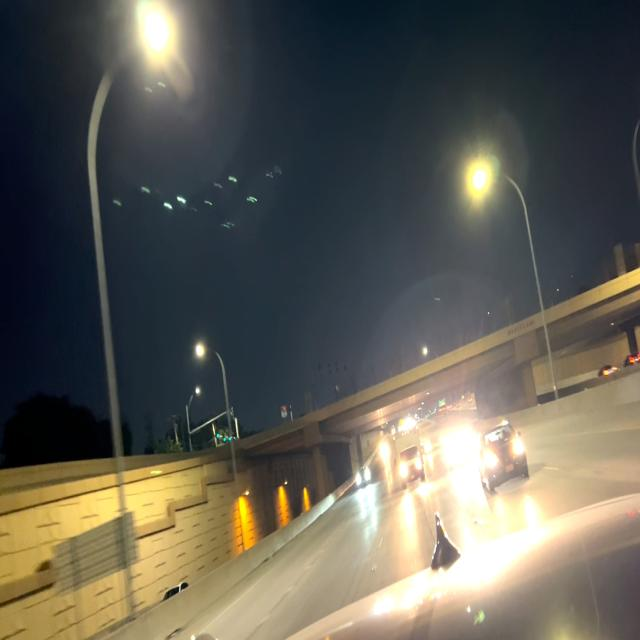back-of-sign: (54, 510, 139, 595)
